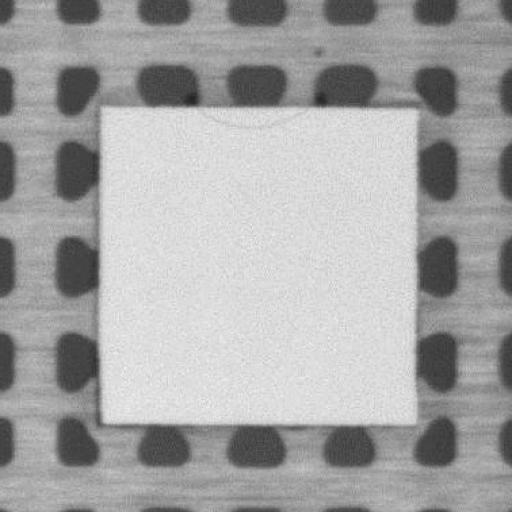DIE_CRACK: (195, 105, 309, 130)
